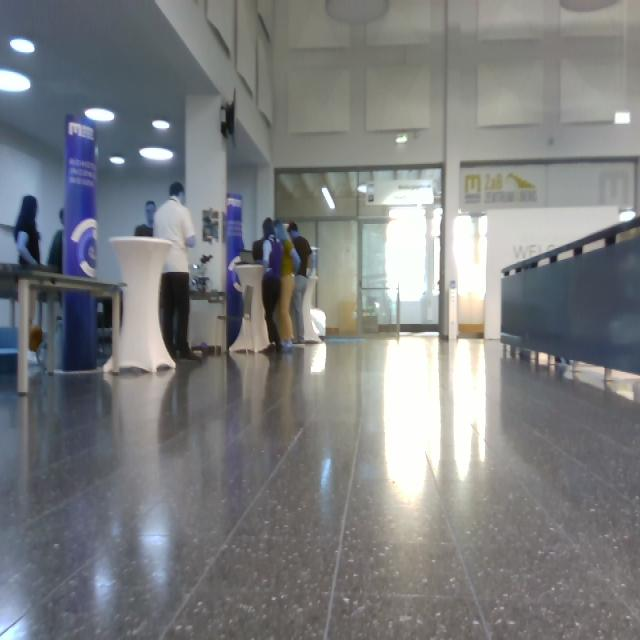door: (317, 218, 359, 336)
light bulb: (325, 1, 390, 25), (1, 69, 31, 93), (139, 146, 174, 161), (10, 37, 35, 54), (85, 108, 115, 122), (321, 187, 336, 211), (614, 110, 631, 125), (619, 208, 636, 222), (152, 120, 170, 130), (110, 156, 125, 165), (396, 133, 408, 144)
person: (153, 181, 203, 362), (287, 221, 313, 344), (261, 217, 284, 352)
staircase: (500, 215, 639, 383)
tiled floor: (1, 332, 639, 638)
